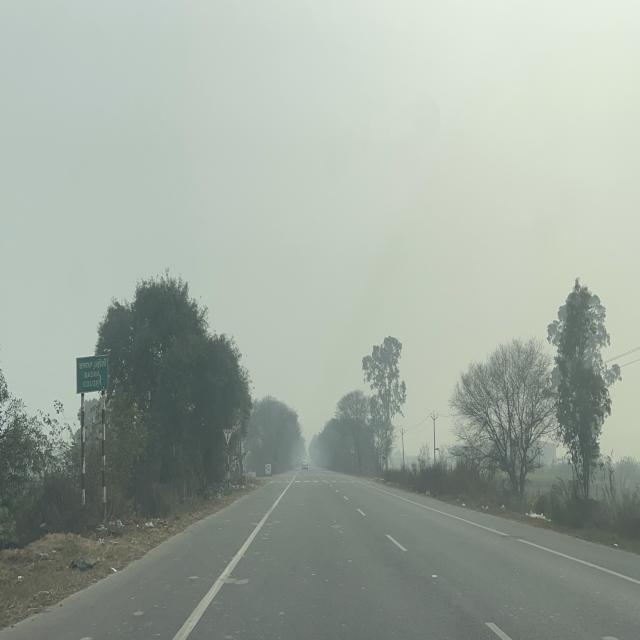GENERAL: (74, 354, 110, 392)
